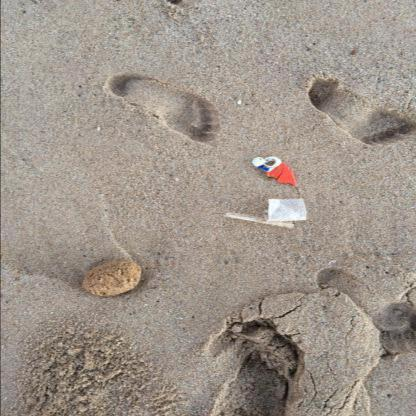Other plastic: (265, 163, 296, 186), (252, 156, 281, 171)
Plastic bag - wrapper: (225, 212, 294, 228), (267, 198, 306, 221)
